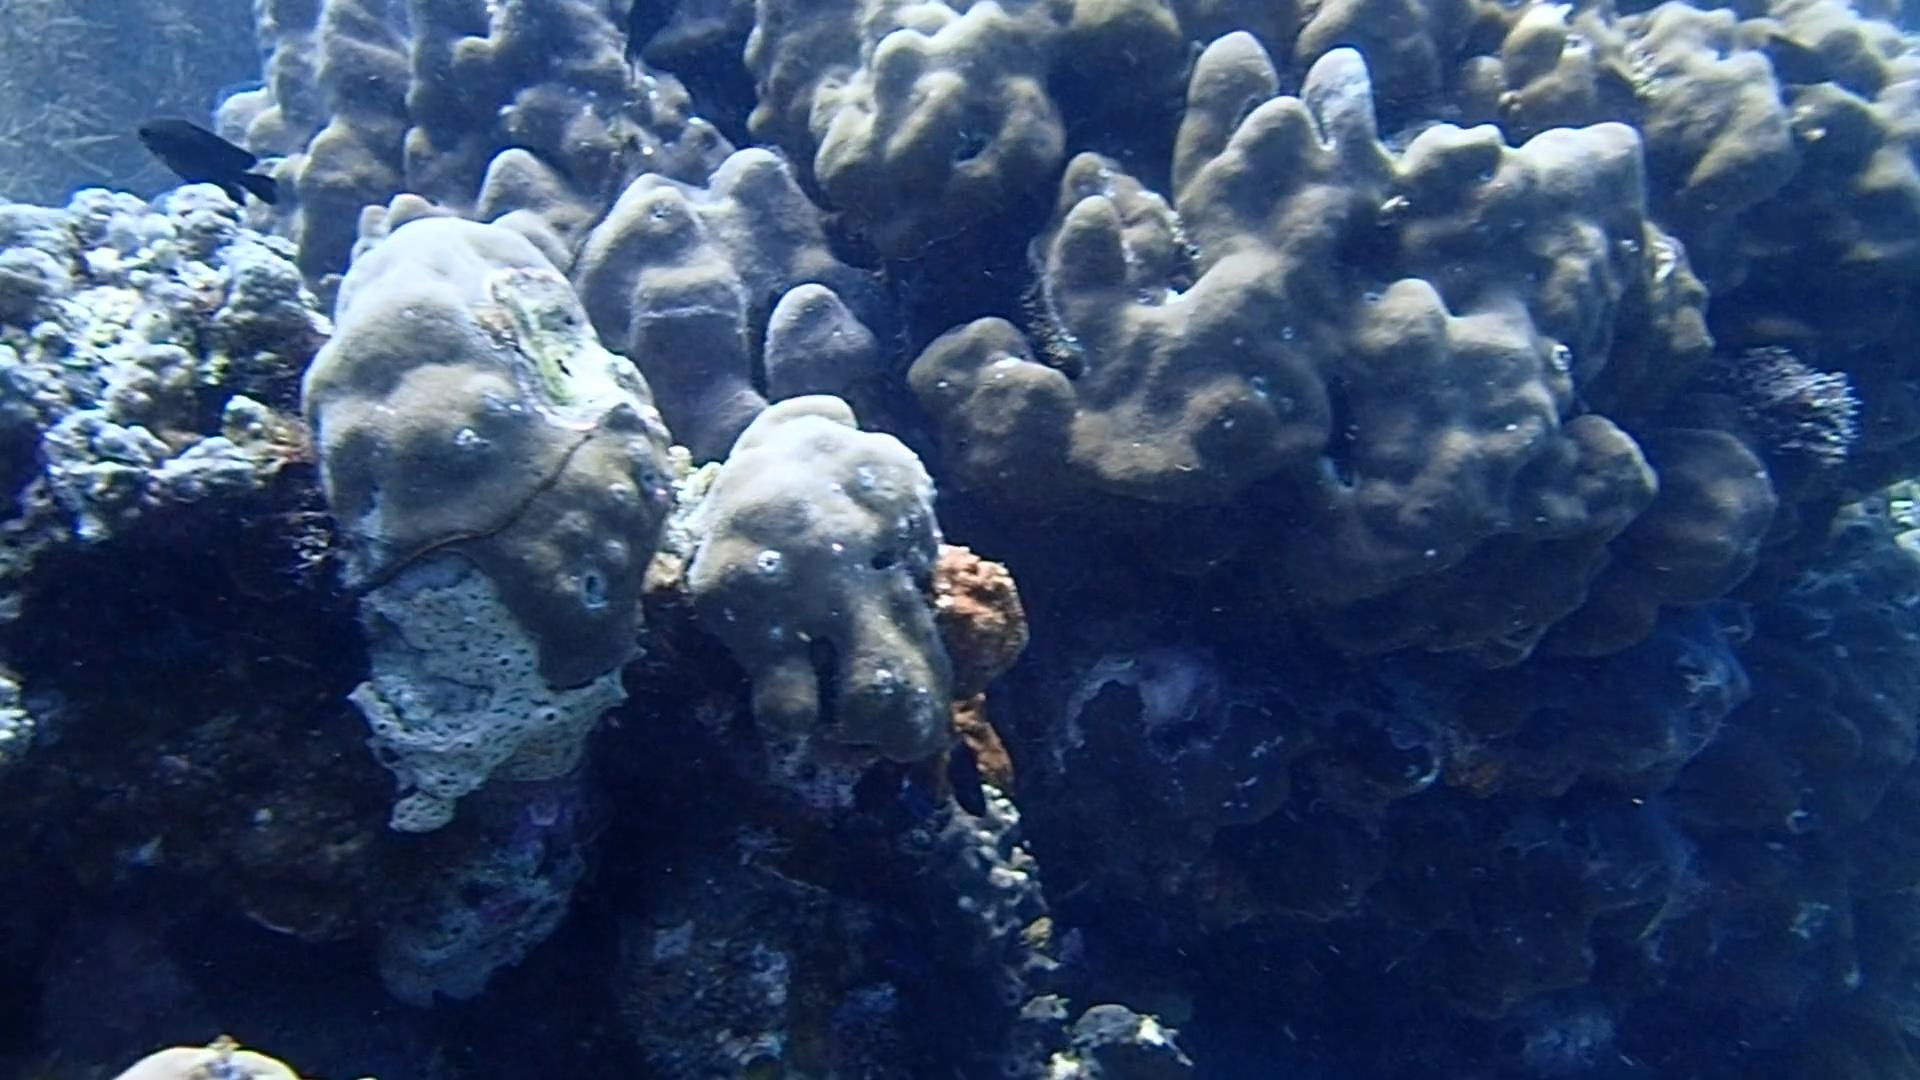Dark Fish: (120, 108, 290, 222), (1750, 20, 1845, 90), (940, 738, 1004, 824), (1585, 55, 1642, 124)
